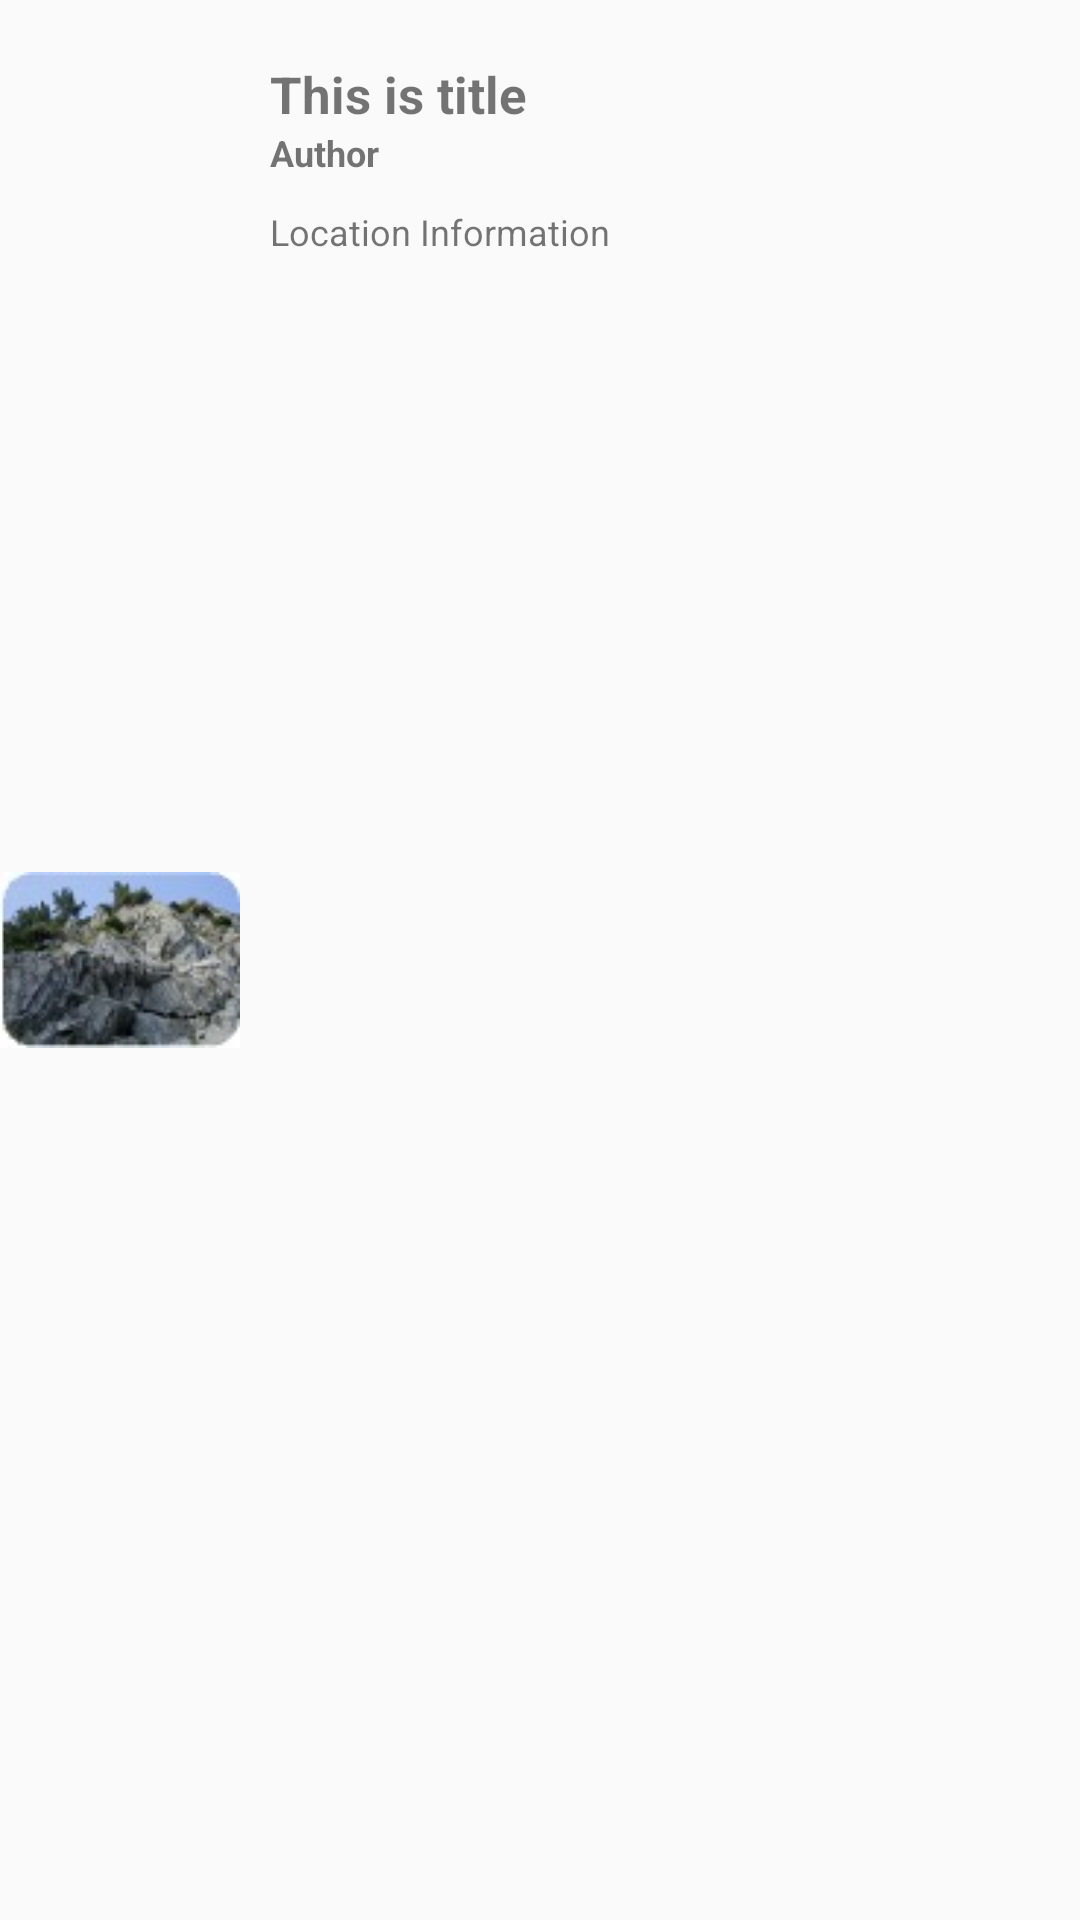

Icons on this 1080 × 1920 Android screen, each with its box as (x1, y1, x2, y2):
photo: (2, 872, 240, 1048)
